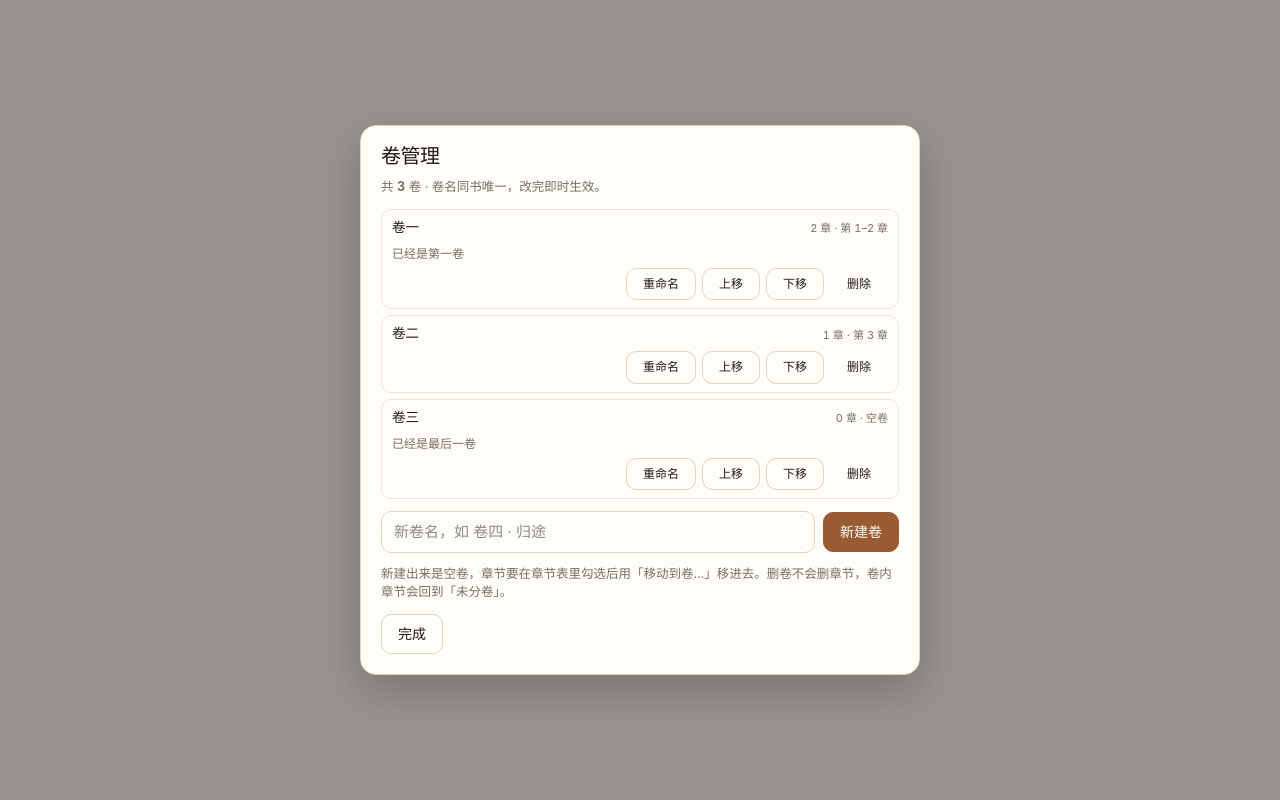
it: 卷管理弹窗 › 后端 409 重名用同一句文案，弹窗不关闭
This screenshot has width=1280, height=800.
Click the button with test id "volume-rename-open-2" at (661, 368), box [626, 351, 696, 384]
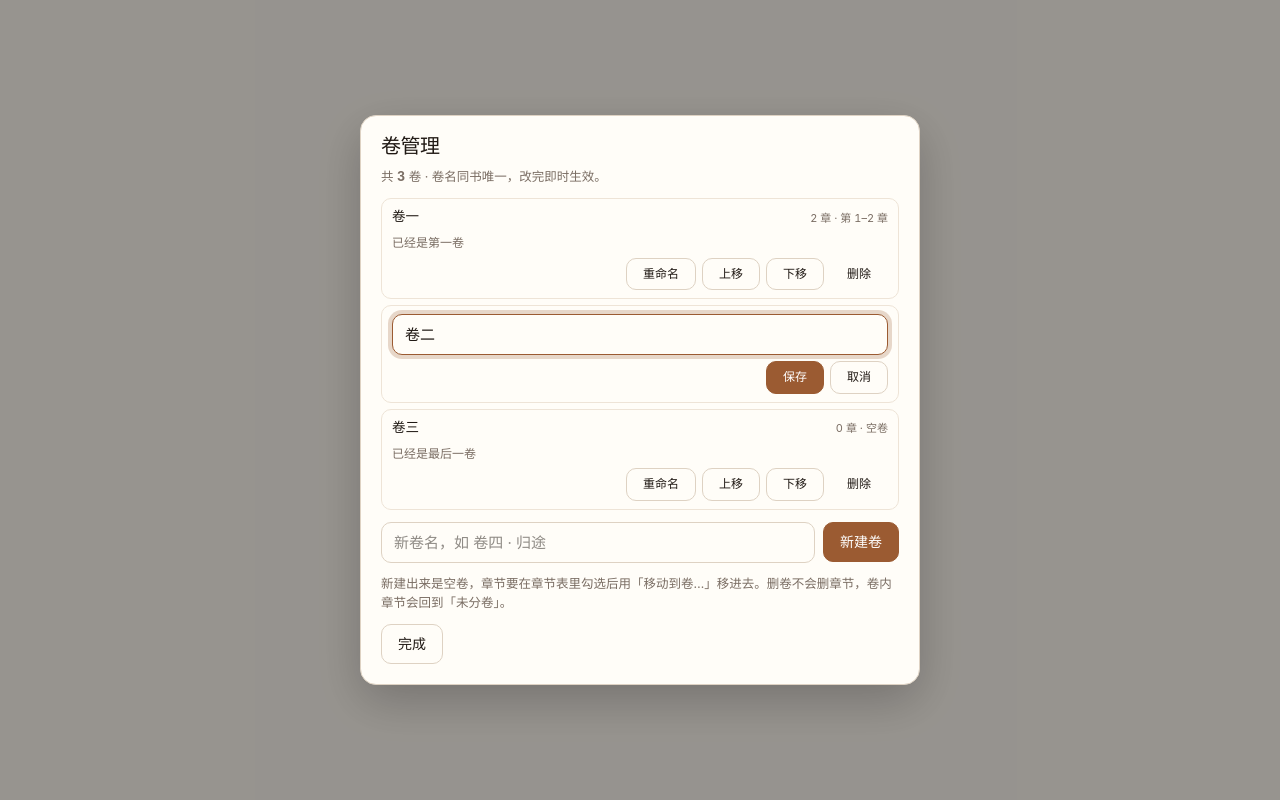
Replace the text in the field with test id "volume-rename-input" with "卷二 · 上" at (640, 335), box [392, 314, 888, 356]
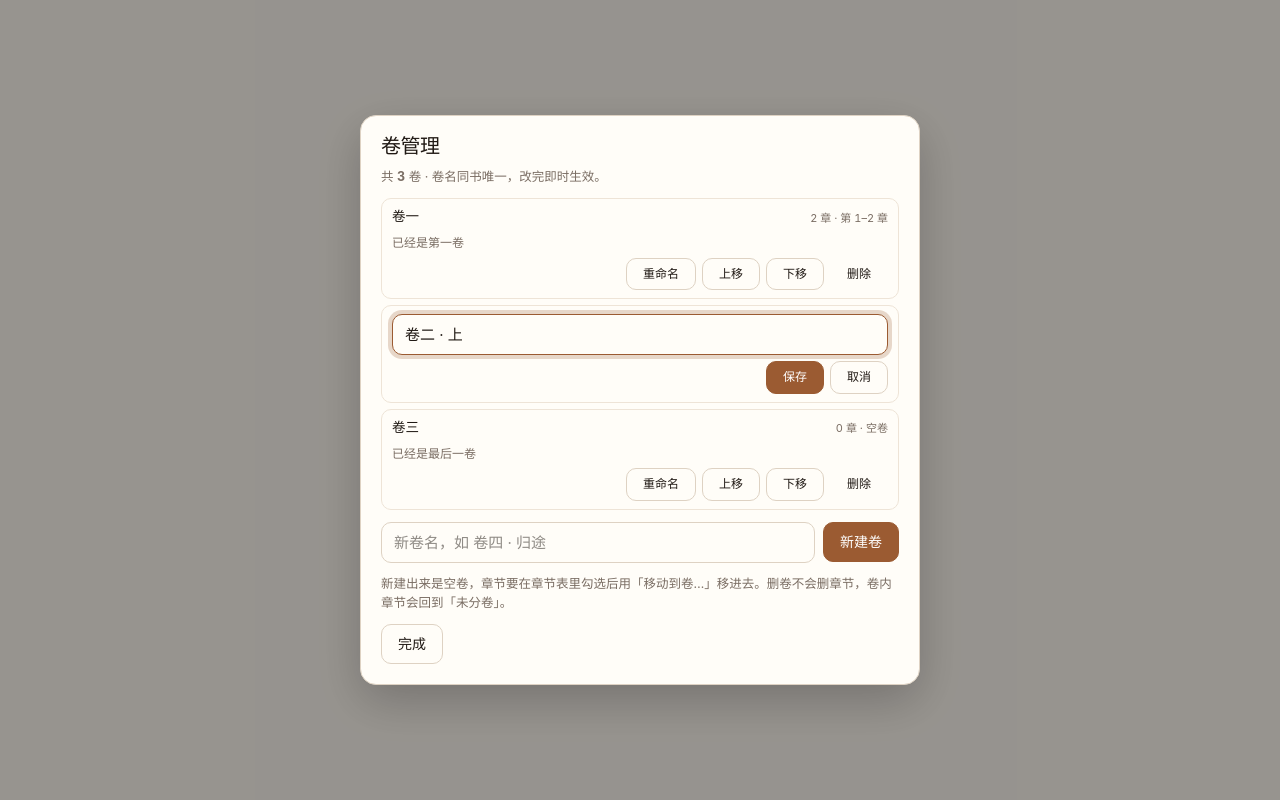
Click the button with test id "volume-rename-save" at (795, 378), box [766, 361, 824, 394]
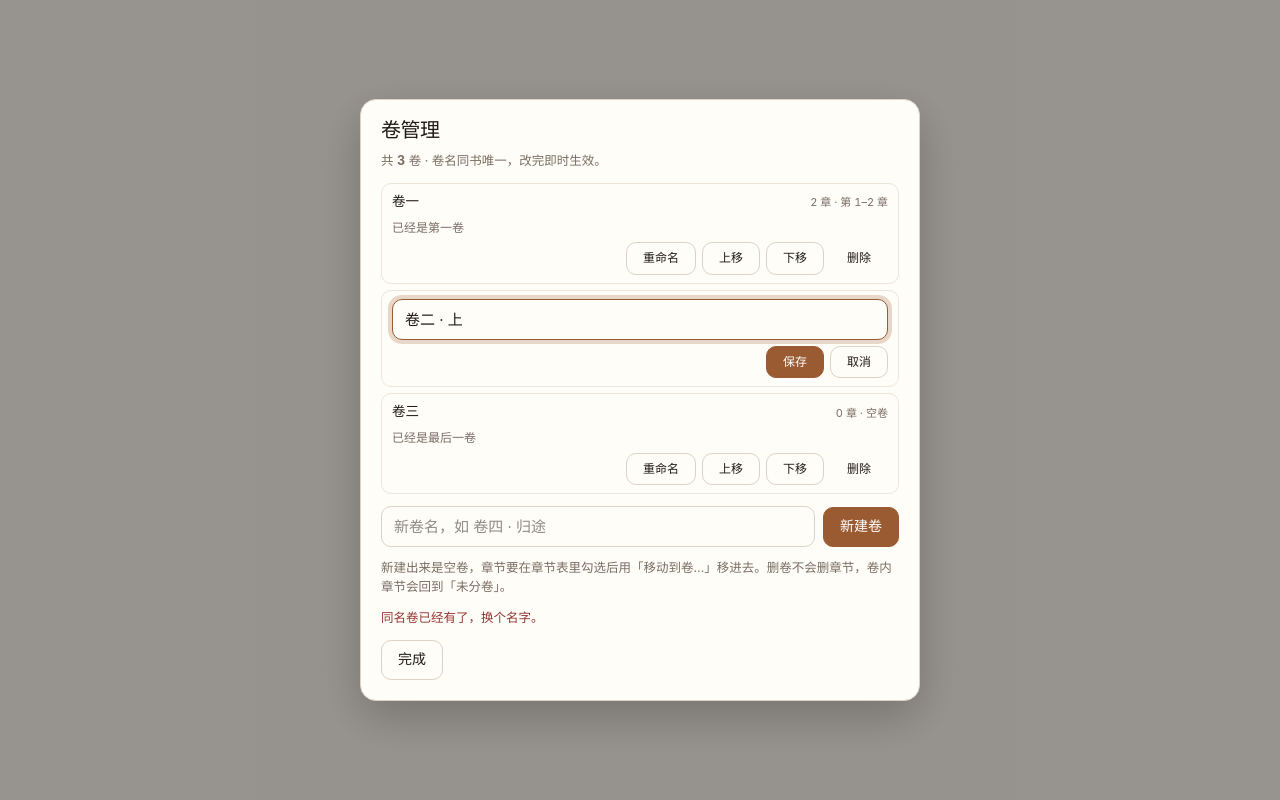
Expected: the dialog with test id "volume-manage-dialog" is shown, [360, 99, 920, 701]
Expected: the message with test id "volume-error" reads "同名卷已经有了，换个名字。", [381, 610, 544, 625]
